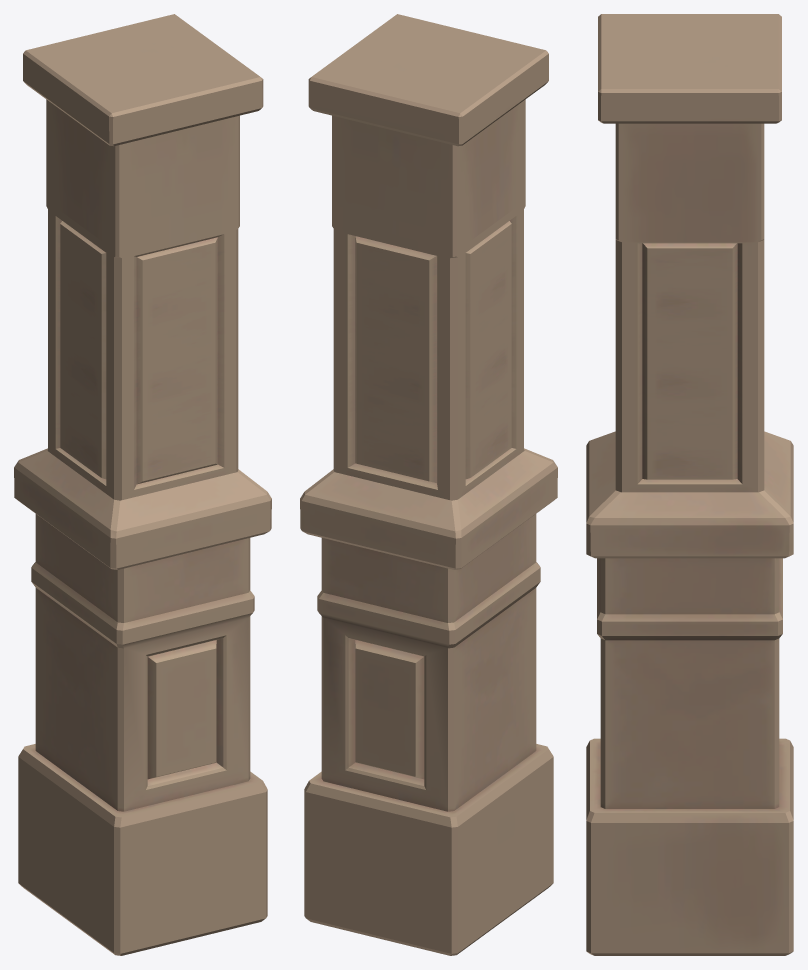
File: ColumnOuterCorner.fbx
3 views of the same model, side by side, from view 1: azimuth 30°, elevation 25°; view 2: azimuth 150°, elevation 25°; view 3: azimuth 270°, elevation 25° (orthographic). The views are drawn at different scales.
Parts seen in each view (by area): view 1: ColumnOuterCorner, column2Middle1.001, column2Top.001; view 2: ColumnOuterCorner, column2Middle1.001, column2Top.001; view 3: ColumnOuterCorner, column2Top.001, column2Middle1.001.
Part boxes in pixels (x1,y1,x2,y2): ColumnOuterCorner: [14, 448, 271, 955]; column2Middle1.001: [48, 202, 238, 500]; column2Top.001: [23, 14, 263, 258]; ColumnOuterCorner: [300, 448, 557, 955]; column2Middle1.001: [333, 202, 523, 500]; column2Top.001: [308, 14, 548, 258]; ColumnOuterCorner: [586, 431, 793, 955]; column2Top.001: [598, 14, 781, 242]; column2Middle1.001: [615, 240, 764, 492].
Bounding box in the file's own units: 197 × 980 × 213.
